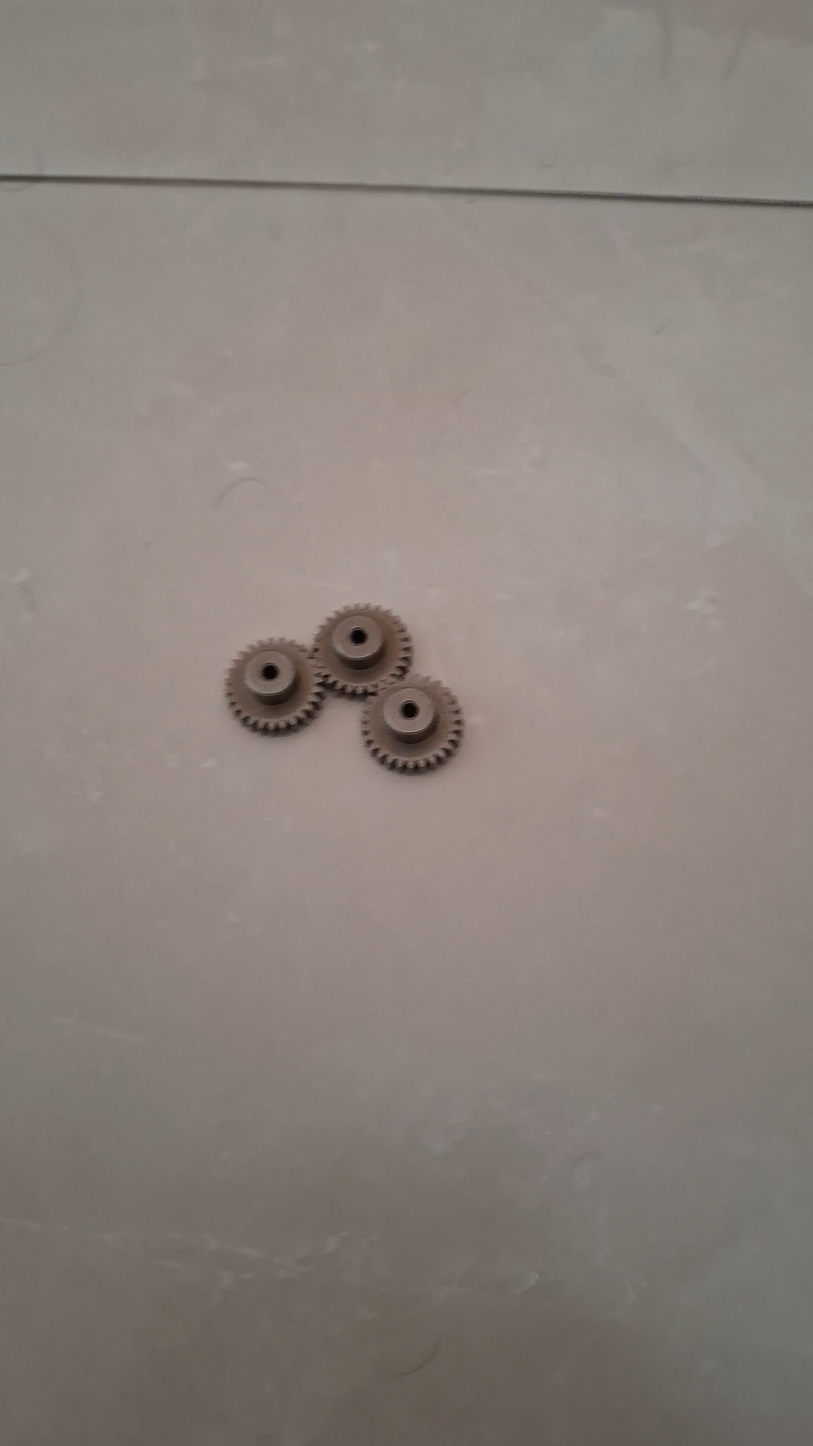spur gear: (361, 676, 464, 772), (225, 639, 324, 733), (312, 605, 412, 696)
